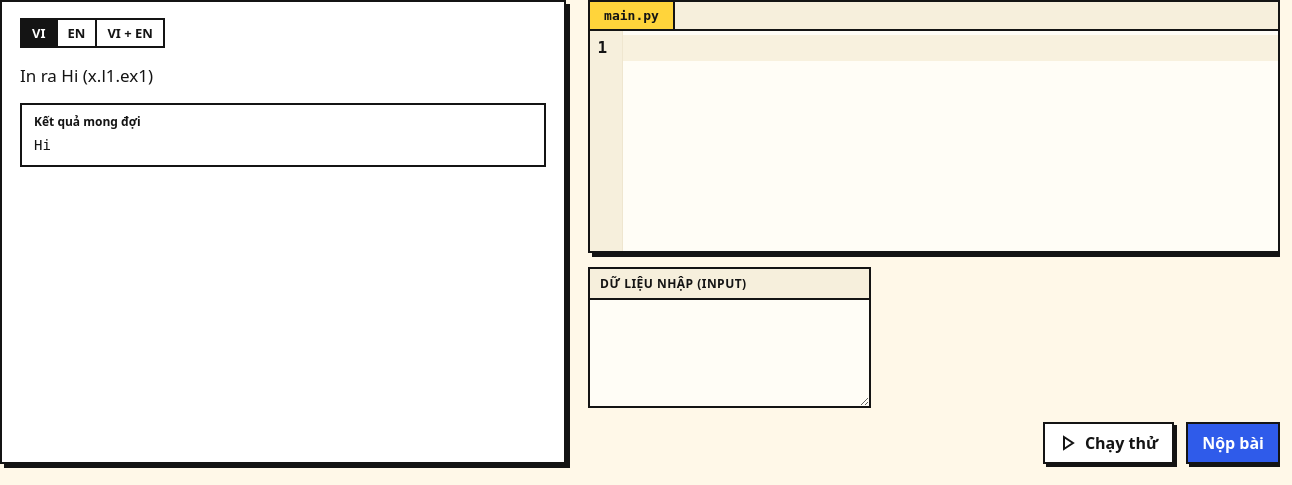
Scenario: ExamCodeView › a failed trial run still says Robo has a problem
The image size is (1292, 485).
Click the button "Chạy thử". click: [1109, 443]
box: x1=1043 y1=422 x2=1174 y2=464
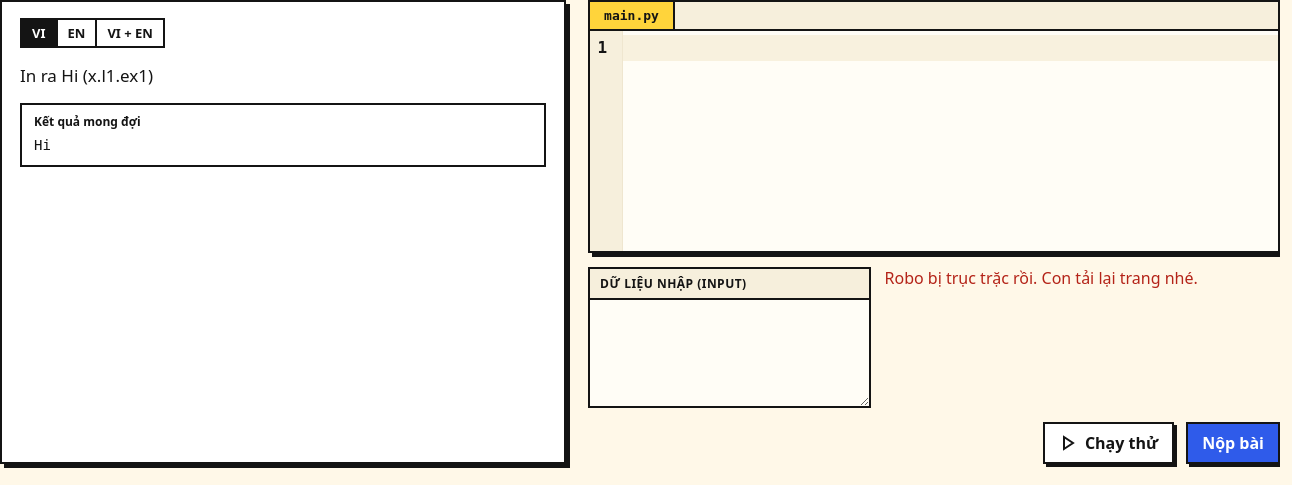
Expected: the message shows "Robo", x1=884 y1=267 x2=1198 y2=289
